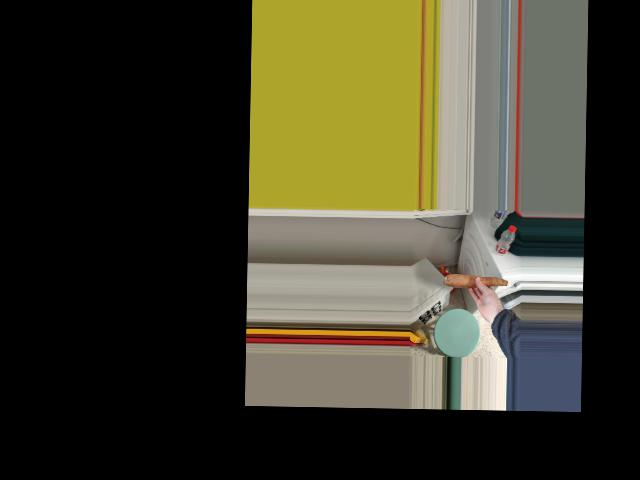sweet_potato: (445, 272, 509, 294)
